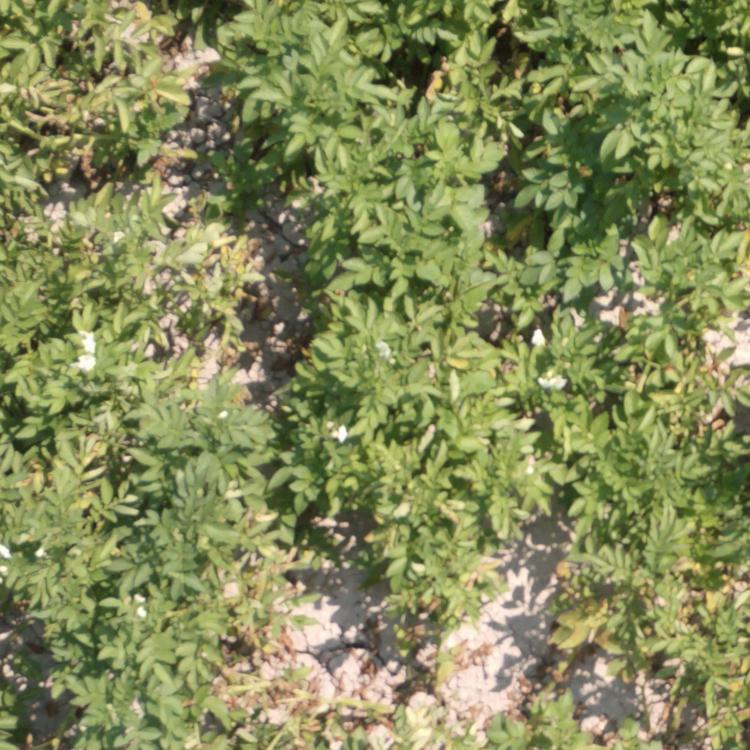healthy: (207, 1, 723, 317), (1, 371, 275, 750), (287, 322, 530, 631), (1, 1, 179, 365), (548, 327, 743, 548)
stressed: (540, 556, 750, 741), (276, 666, 525, 750)
